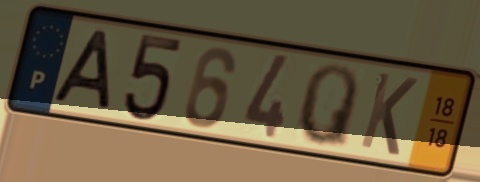4: (240, 50, 290, 144)
5: (119, 29, 186, 123)
6: (182, 44, 238, 131)
A: (49, 27, 115, 114)
K: (356, 68, 422, 159)
Q: (293, 61, 362, 153)
